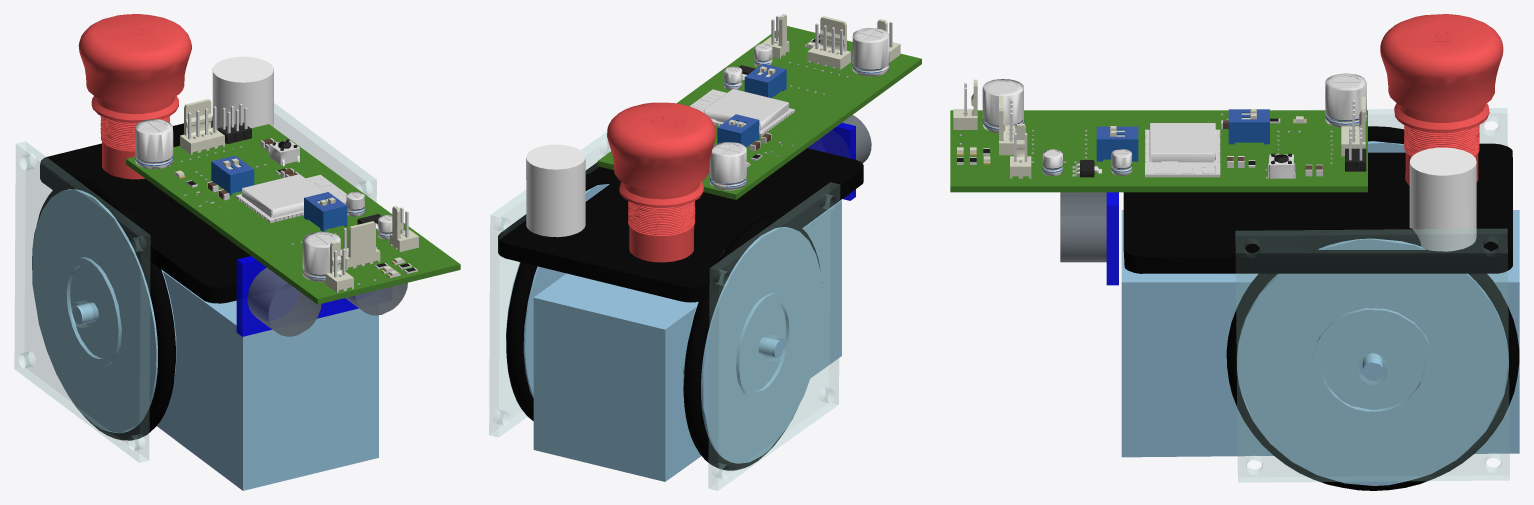
The picture shows the model from 3 angles, left to right: view 1: azimuth 30°, elevation 25°; view 2: azimuth 150°, elevation 25°; view 3: azimuth 270°, elevation 25°; orthographic projection. The views are drawn at different scales.
Parts seen in each view (by area): view 1: Capteur REED, Plaque G; view 2: Capteur REED, Plaque G; view 3: Capteur REED, Plaque G.
Boxes of the visible parts, x1,y1,x2,y2 form: Capteur REED: [32, 14, 460, 490]; Plaque G: [14, 103, 407, 462]; Capteur REED: [498, 14, 921, 481]; Plaque G: [489, 115, 871, 490]; Capteur REED: [950, 14, 1519, 490]; Plaque G: [1060, 108, 1509, 482].
Size of the model in its own units: 7.1e-05 by 0.000103 by 0.000136.
Materials: 2 (2 with a texture image).
